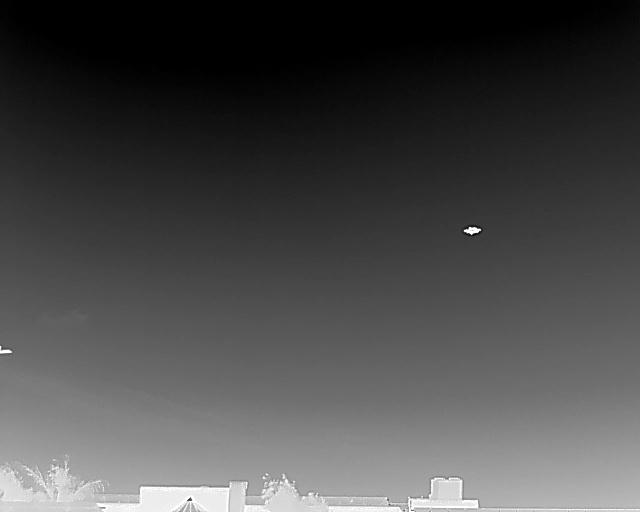fpv-drone: (462, 225, 482, 236)
